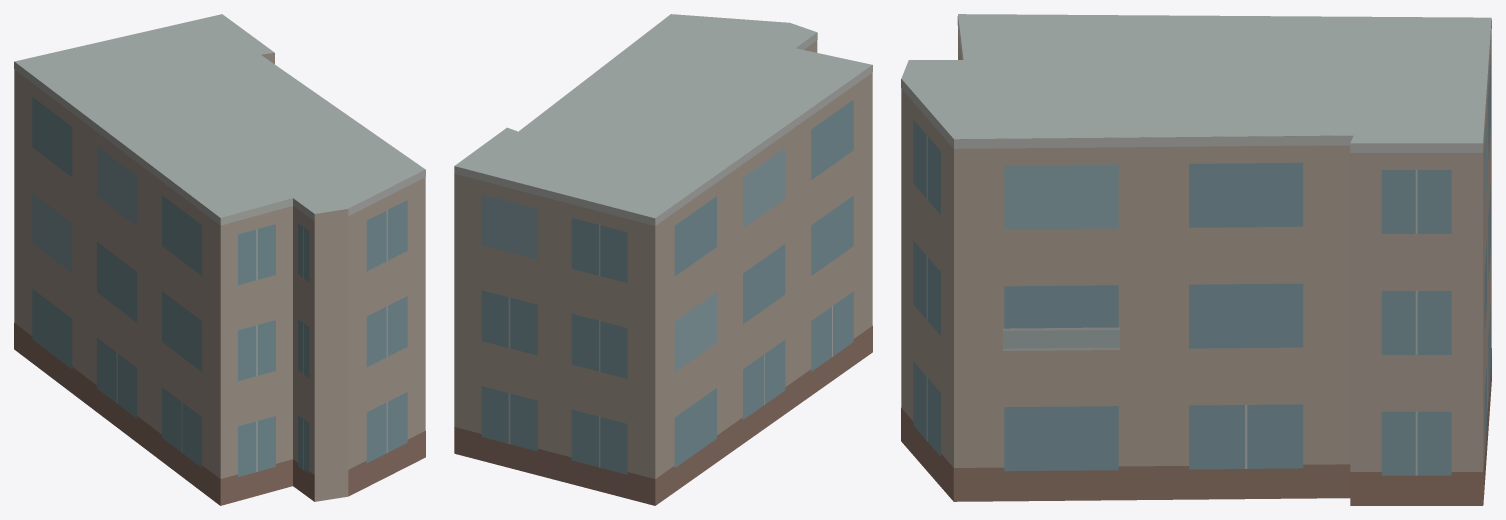
File: survey-upis-32467112.glb
3 renders of one model, left to right at view 1: azimuth 30°, elevation 25°; view 2: azimuth 150°, elevation 25°; view 3: azimuth 270°, elevation 25°, orthographic. The views are drawn at different scales.
Parts seen in each view (by area): view 1: survey-upis-32467112.tmp; view 2: survey-upis-32467112.tmp; view 3: survey-upis-32467112.tmp.
Part boxes in pixels (<box>): survey-upis-32467112.tmp: <box>14,14,425,505</box>; survey-upis-32467112.tmp: <box>454,14,872,505</box>; survey-upis-32467112.tmp: <box>901,14,1491,505</box>.
Bounding box in the file's own units: 7.01 × 9.15 × 13.52.
